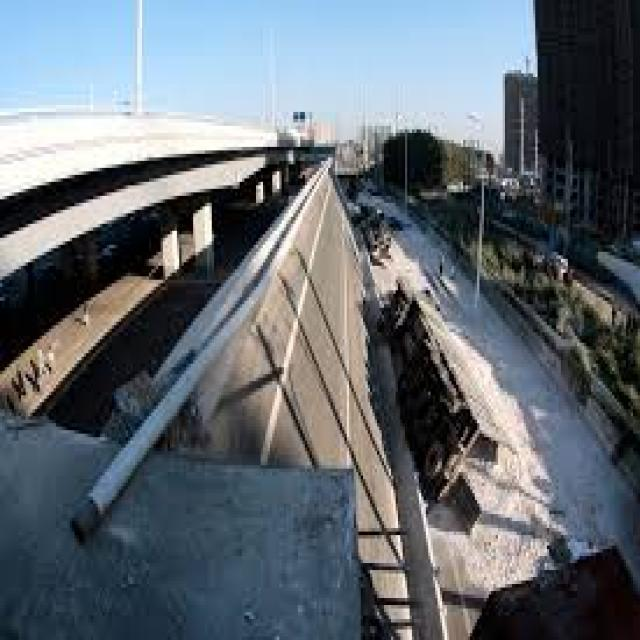bridge collapse: (0, 63, 628, 639)
